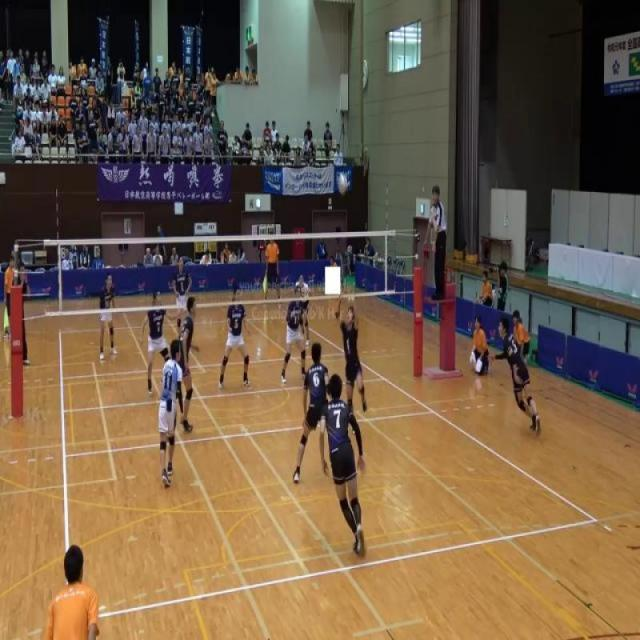volleyball: (337, 171, 349, 198)
